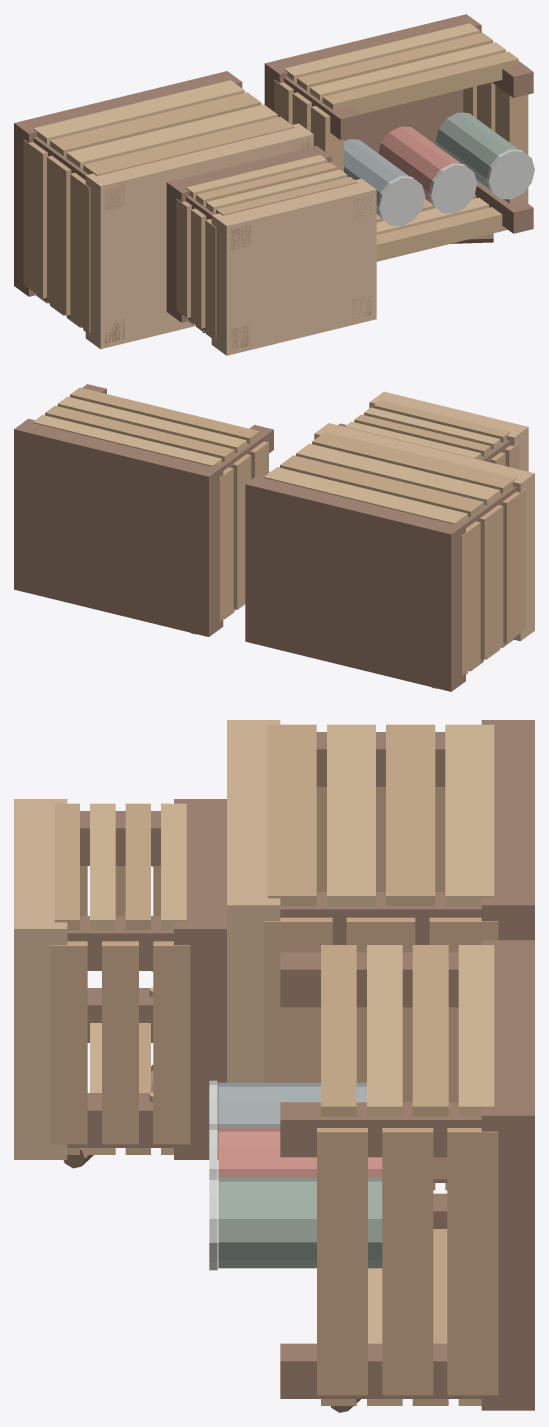
The model's file is 09_supply_crates.glb.
3 views of the same model, one above another, from view 1: azimuth 30°, elevation 25°; view 2: azimuth 150°, elevation 25°; view 3: azimuth 270°, elevation 25° (orthographic). The views are drawn at different scales.
Parts seen in each view (by area): view 1: top_crate_lid_0065, bottom_left_lid_0002, bottom_right_bottom_0030, bottom_right_front_back_plank_0038, bottom_left_bottom_0001, bottom_left_side_plank_0012, bottom_left_side_plank_0011, bottom_left_front_back_plank_0009, bottom_left_front_back_plank_0008, bottom_right_front_back_plank_0034, bottom_left_front_back_plank_0007, top_crate_bottom_0064 (+29 smaller); view 2: bottom_left_bottom_0001, bottom_right_bottom_0030, bottom_left_lid_0002, bottom_left_side_plank_0012, bottom_left_side_plank_0013, bottom_left_front_back_plank_0009, bottom_left_front_back_plank_0008, bottom_left_front_back_plank_0010, bottom_left_front_back_plank_0007, bottom_left_side_plank_0011, bottom_right_front_back_plank_0038, bottom_right_front_back_plank_0036 (+13 smaller); view 3: bottom_right_bottom_0030, bottom_left_lid_0002, top_crate_lid_0065, bottom_right_side_plank_0043, bottom_right_side_plank_0042, bottom_right_side_plank_0044, top_crate_bottom_0064, bottom_right_food_tin_0062, bottom_left_bottom_0001, bottom_left_front_back_plank_0008, bottom_left_front_back_plank_0007, bottom_left_front_back_plank_0010 (+37 smaller).
Part boxes in pixels (x1=…): top_crate_lid_0065: x1=211, y1=178, x2=376, y2=355; bottom_left_lid_0002: x1=85, y1=123, x2=313, y2=349; bottom_right_bottom_0030: x1=264, y1=14, x2=481, y2=153; bottom_right_front_back_plank_0038: x1=322, y1=51, x2=518, y2=114; bottom_left_bottom_0001: x1=14, y1=71, x2=242, y2=296; bottom_left_side_plank_0012: x1=47, y1=155, x2=71, y2=315; bottom_left_side_plank_0011: x1=23, y1=139, x2=47, y2=298; bottom_left_front_back_plank_0009: x1=66, y1=104, x2=277, y2=168; bottom_left_front_back_plank_0008: x1=50, y1=92, x2=261, y2=155; bottom_right_front_back_plank_0034: x1=376, y1=207, x2=507, y2=261; bottom_left_front_back_plank_0007: x1=33, y1=80, x2=244, y2=143; top_crate_bottom_0064: x1=166, y1=145, x2=331, y2=322; bottom_left_bottom_0001: x1=245, y1=473, x2=465, y2=691; bottom_right_bottom_0030: x1=14, y1=418, x2=223, y2=636; bottom_left_lid_0002: x1=314, y1=423, x2=534, y2=641; bottom_left_side_plank_0012: x1=479, y1=505, x2=503, y2=659; bottom_left_side_plank_0013: x1=502, y1=489, x2=525, y2=642; bottom_left_front_back_plank_0009: x1=296, y1=443, x2=500, y2=505; bottom_left_front_back_plank_0008: x1=280, y1=455, x2=483, y2=516; bottom_left_front_back_plank_0010: x1=312, y1=432, x2=516, y2=493; bottom_left_front_back_plank_0007: x1=264, y1=467, x2=467, y2=524; bottom_left_side_plank_0011: x1=461, y1=521, x2=480, y2=675; bottom_right_front_back_plank_0038: x1=70, y1=387, x2=259, y2=443; bottom_right_front_back_plank_0036: x1=45, y1=405, x2=234, y2=461; bottom_right_bottom_0030: x1=481, y1=940, x2=534, y2=1410; bottom_left_lid_0002: x1=227, y1=720, x2=280, y2=1082; top_crate_lid_0065: x1=14, y1=799, x2=67, y2=1159; bottom_right_side_plank_0043: x1=382, y1=1128, x2=433, y2=1395; bottom_right_side_plank_0042: x1=447, y1=1128, x2=498, y2=1395; bottom_right_side_plank_0044: x1=317, y1=1128, x2=367, y2=1395; top_crate_bottom_0064: x1=174, y1=799, x2=226, y2=1159; bottom_right_food_tin_0062: x1=218, y1=1177, x2=382, y2=1268; bottom_left_bottom_0001: x1=481, y1=720, x2=534, y2=940; bottom_left_front_back_plank_0008: x1=386, y1=724, x2=435, y2=906; bottom_left_front_back_plank_0007: x1=445, y1=724, x2=494, y2=906; bottom_left_front_back_plank_0010: x1=267, y1=724, x2=316, y2=906.
Bounding box in the file's own units: 1.57 × 0.609 × 0.88.
